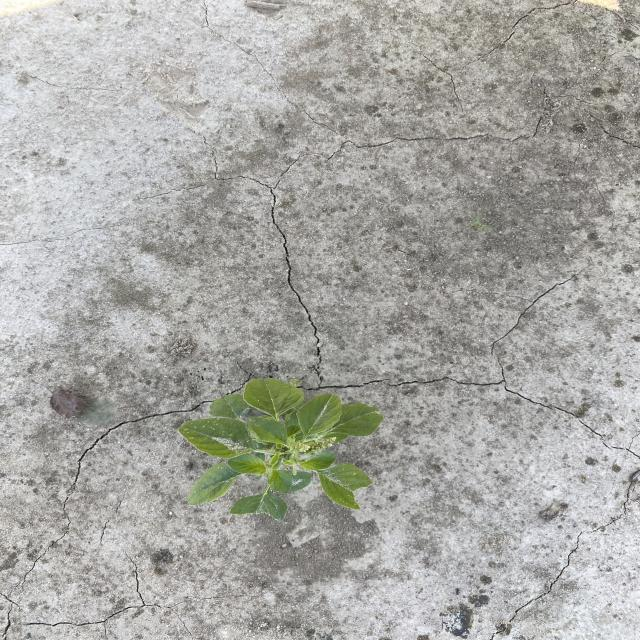PalmerAmaranth: (177, 374, 387, 524)
